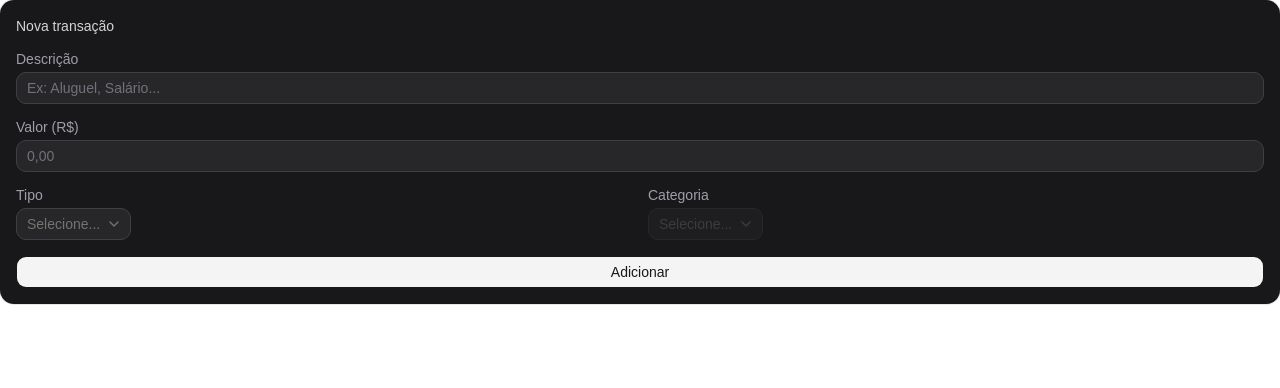
TransactionForm — validação › exibe erro ao informar valor zero
The image size is (1280, 388).
In the number field labelled "Valor (R$)": (640, 156) [16, 140, 1264, 172], type "0"
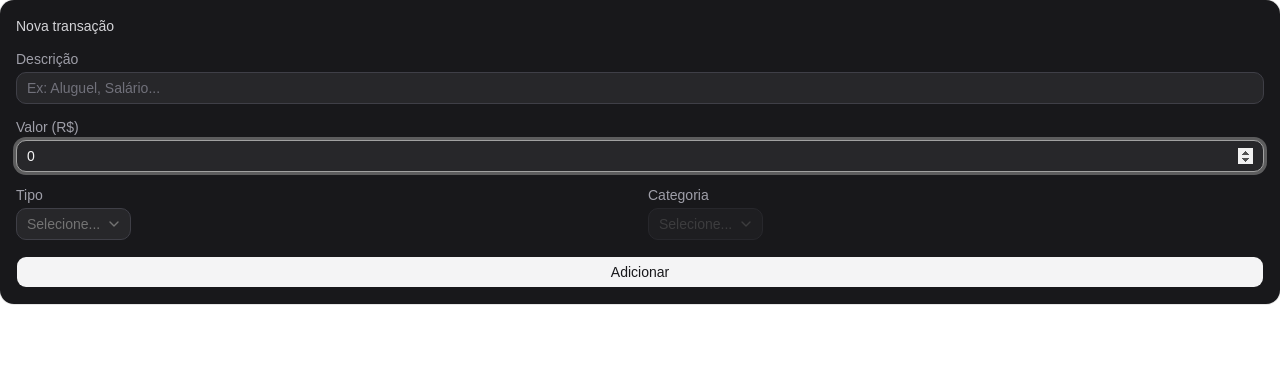
Click the button "Adicionar": (640, 272) [16, 256, 1264, 288]
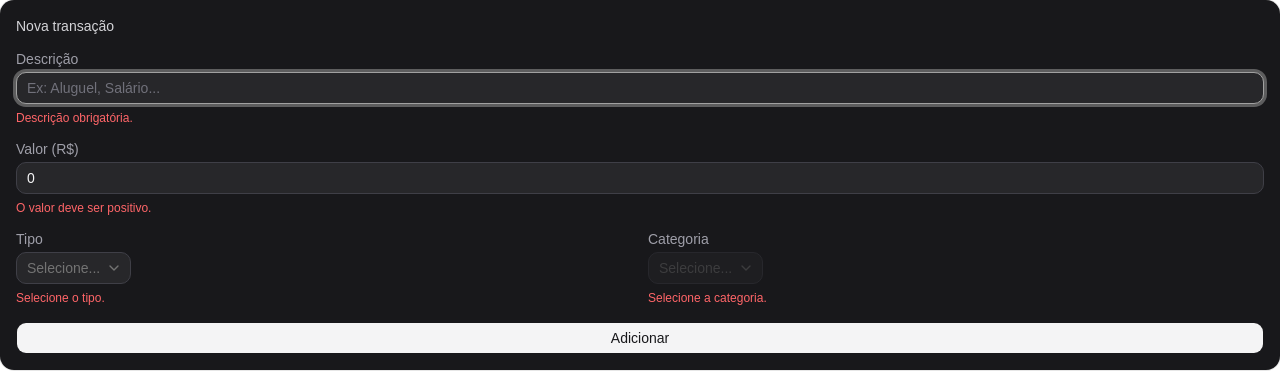
Expected: the text "O valor deve ser positivo." is shown, [16, 201, 151, 215]
